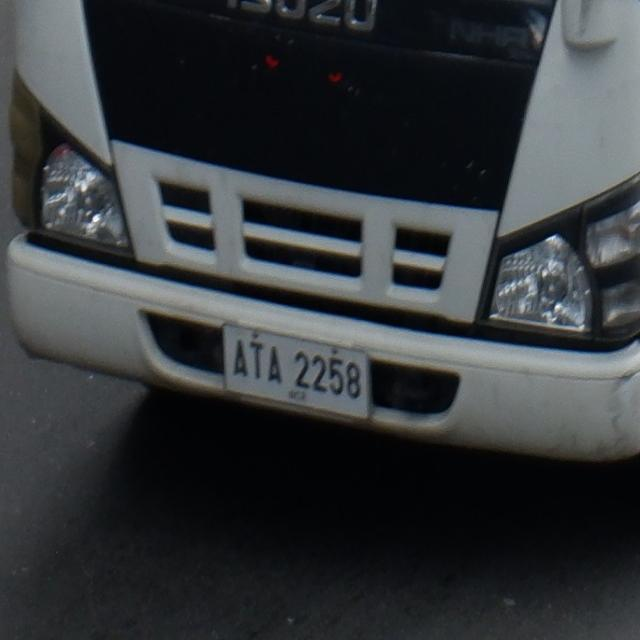LicensePlate: (200, 320, 390, 445)
